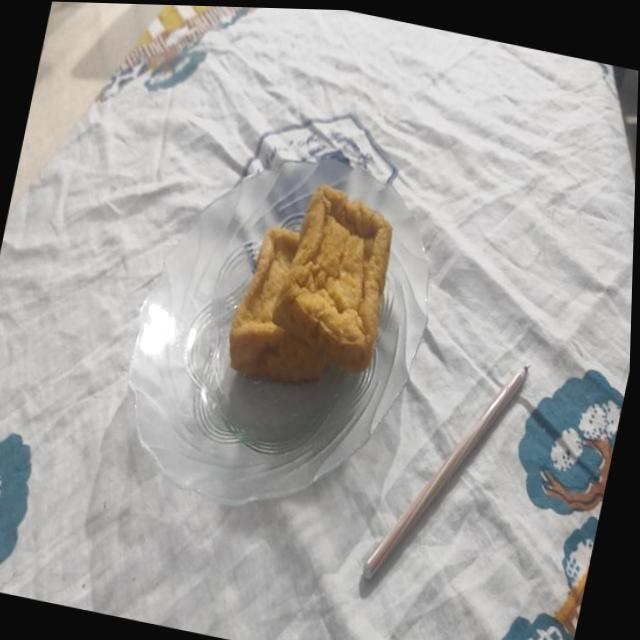tahu_goreng: (271, 185, 391, 372), (229, 228, 326, 382)
